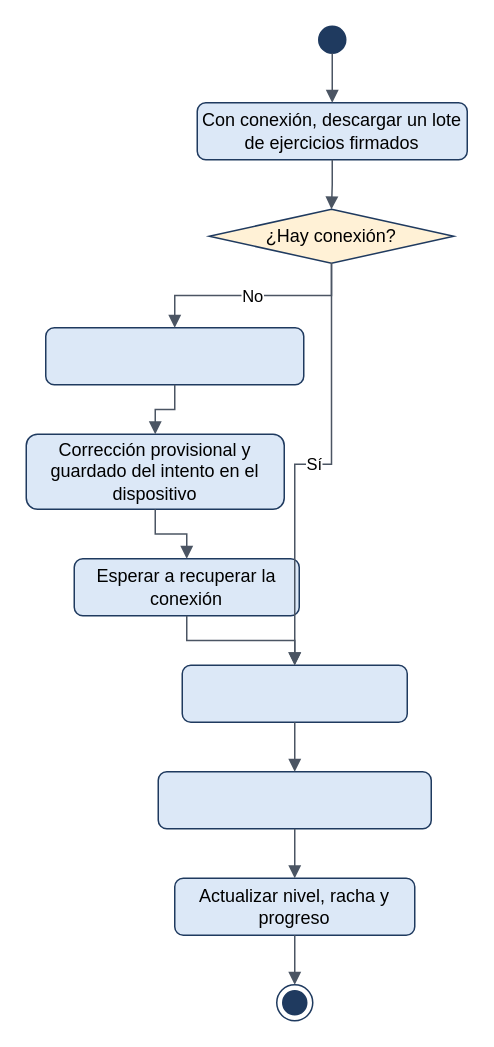
Some shapes in this 494 by 1047 pixel diagram are drawn without their labels. Each missing label, with the centre of its shape:
El servidor corrige de nuevo cada respuesta: the point at 294,799
Enviar los intentos pendientes al servidor: the point at 294,693
Practicar con el lote guardado en el dispositivo: the point at 174,355
